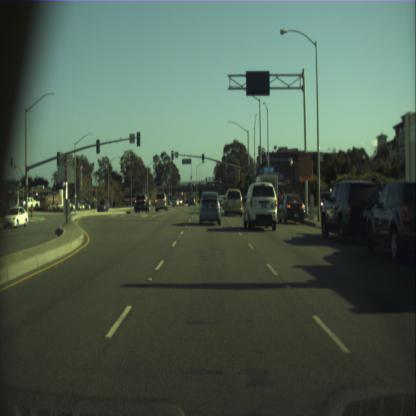Green: (202, 152, 204, 162)
Red: (171, 150, 173, 160)
